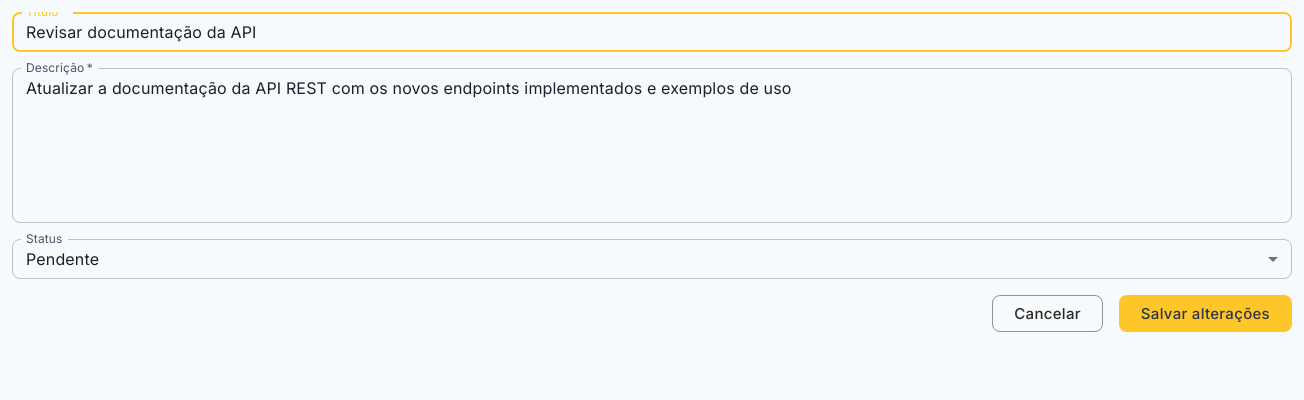
FormEditTask › should display status options
Click the dropdown named "status" at coordinates (63, 258), box left=26, top=248, right=99, bottom=268
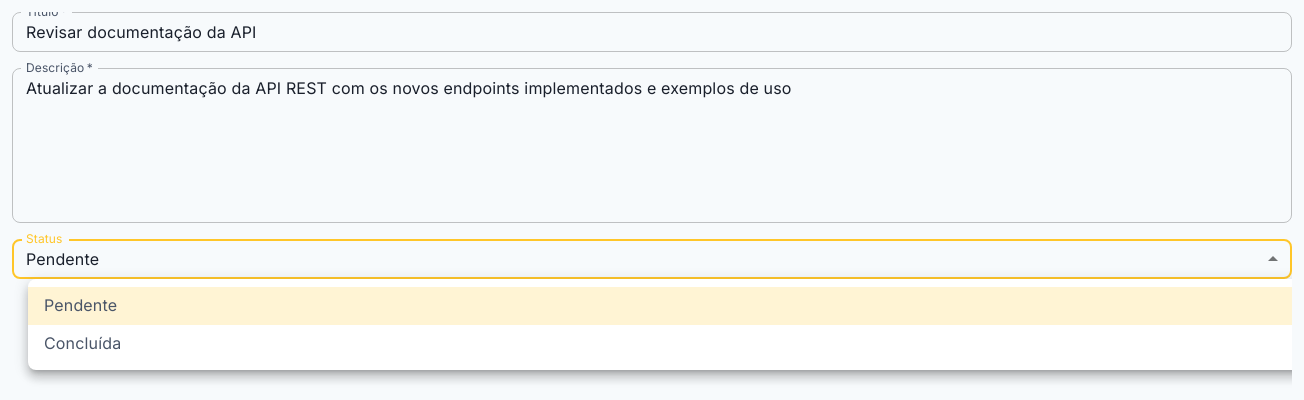
Result: the option "Concluída" is shown at left=44, top=333, right=121, bottom=353
